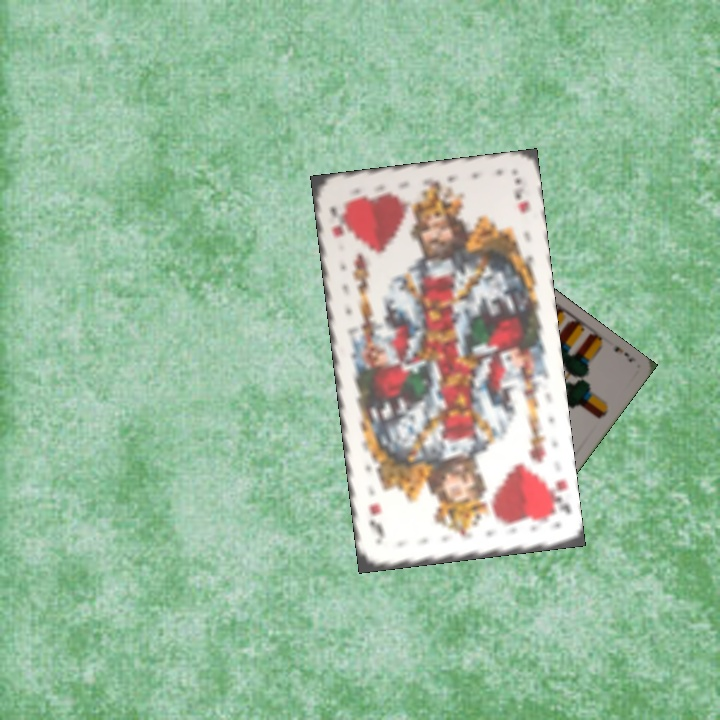E7: (610, 342, 638, 365)
HK: (541, 472, 573, 519), (326, 198, 351, 239)
